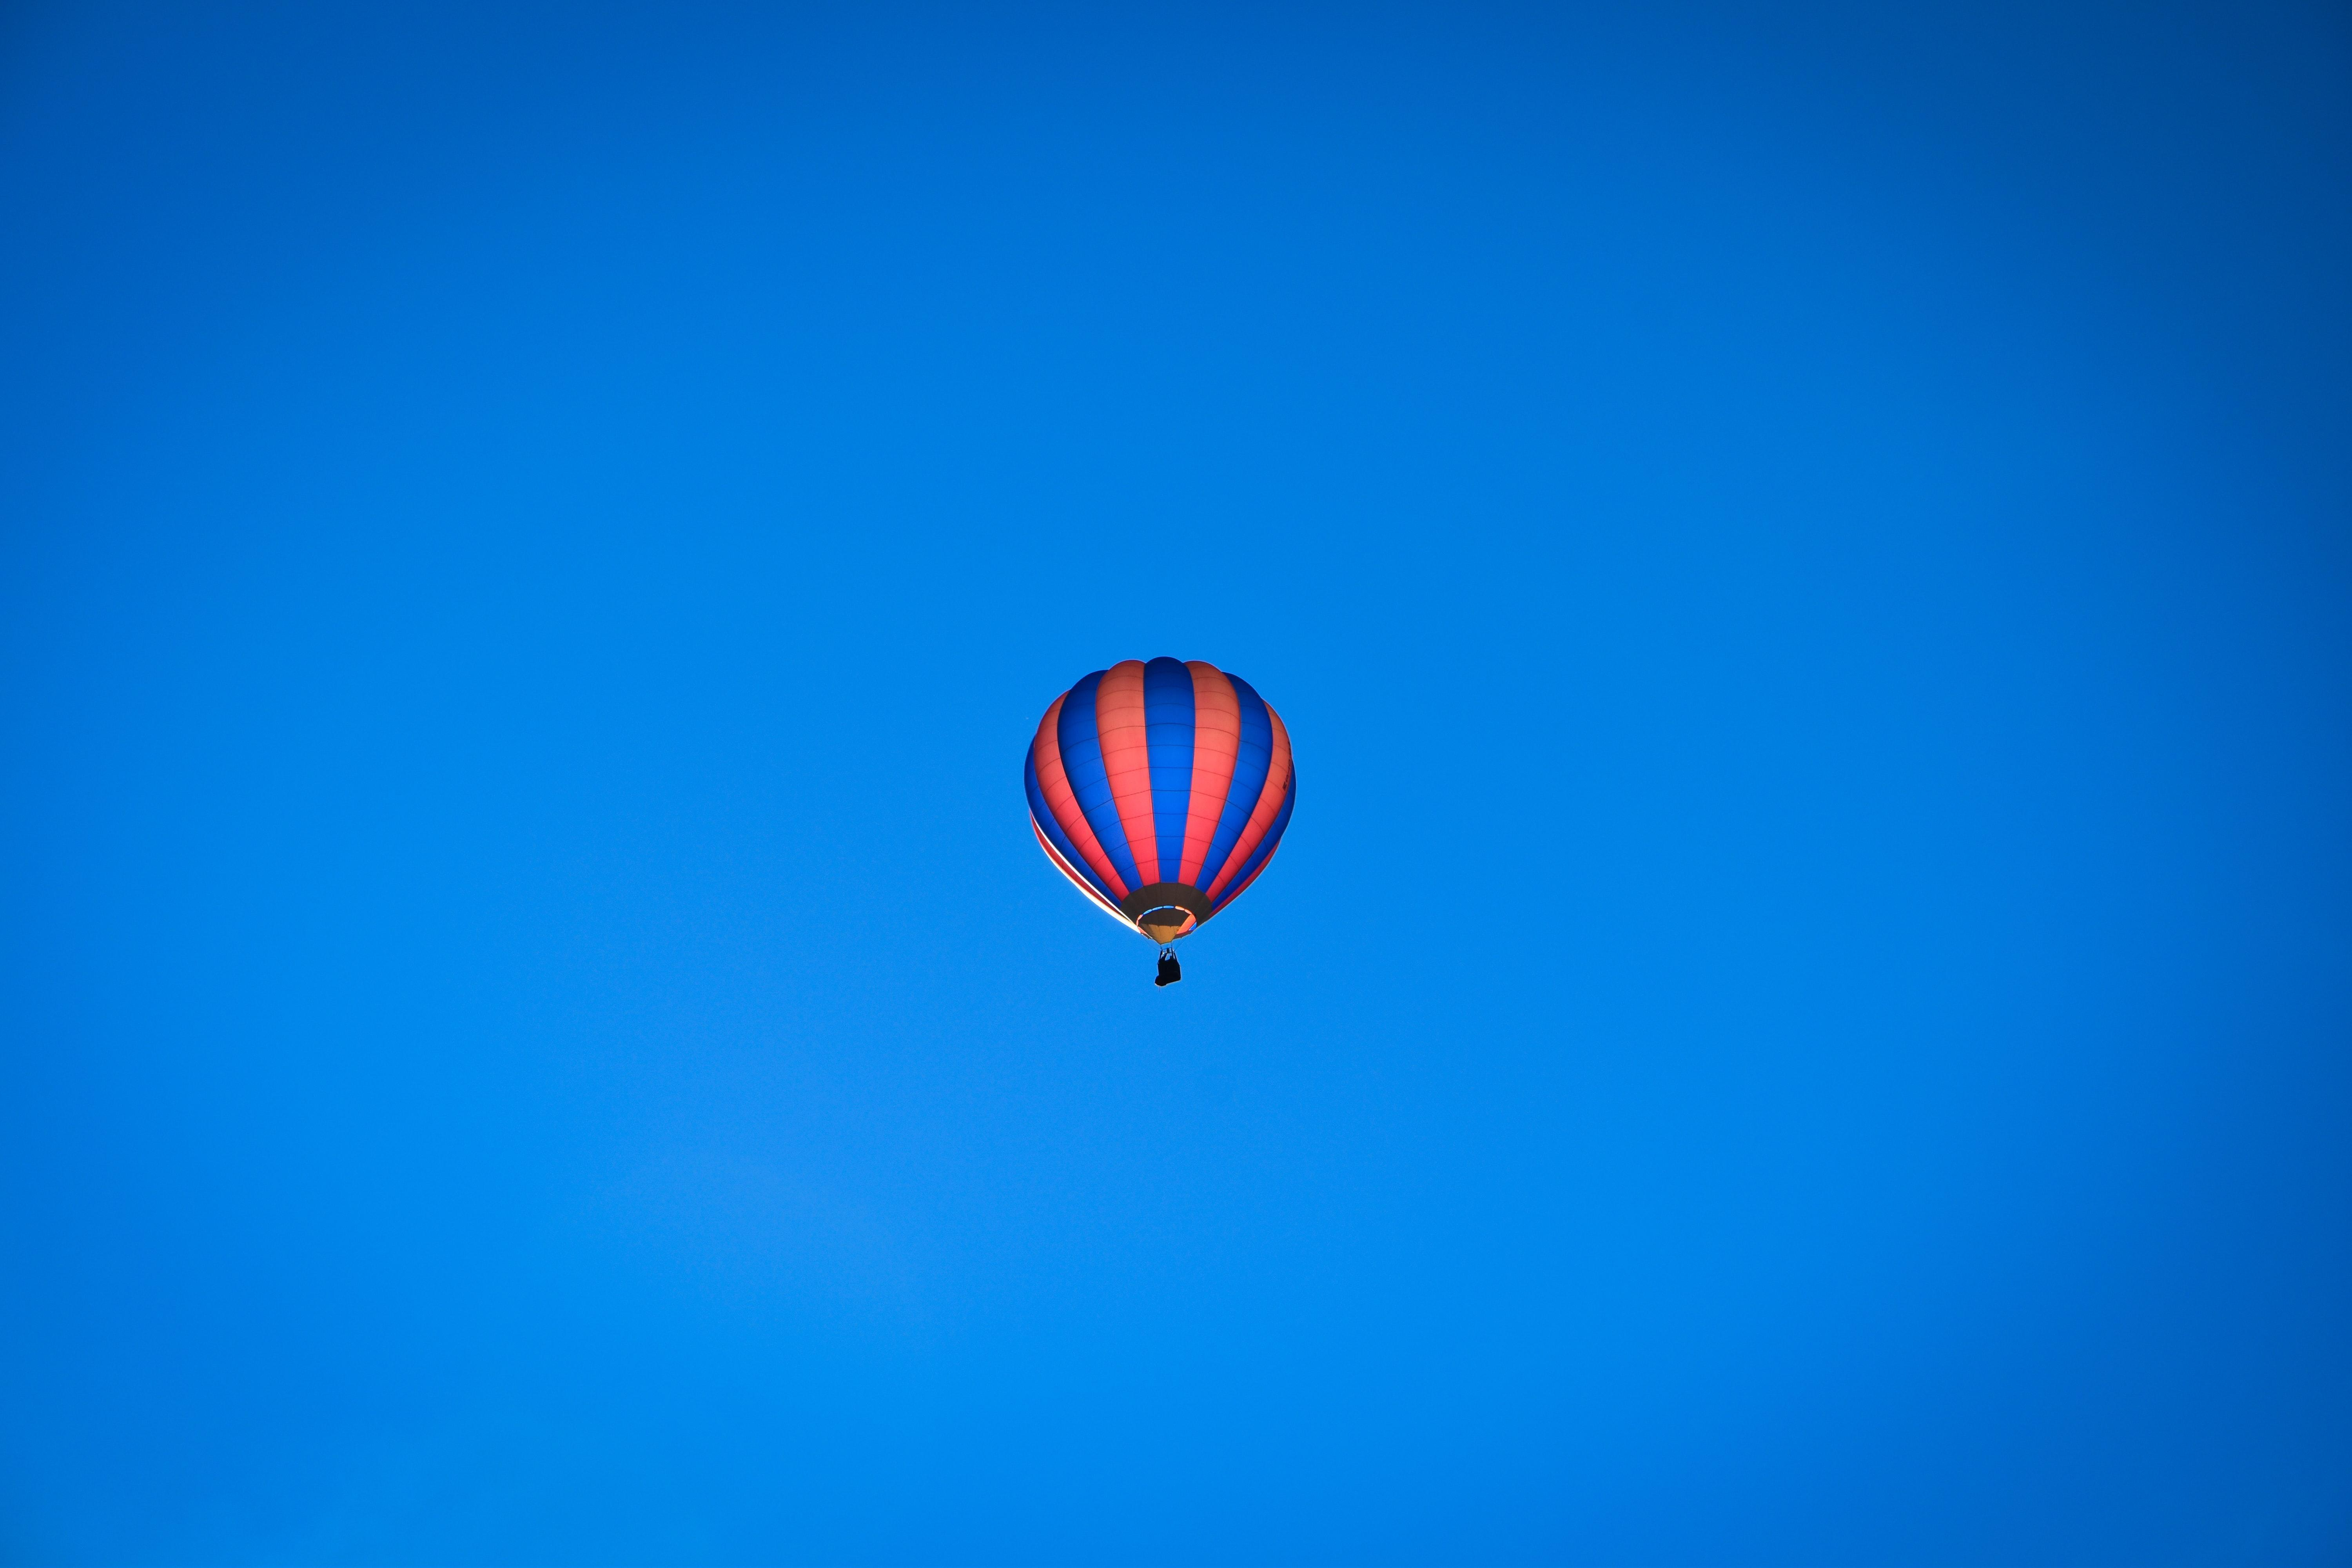hot air ballon: (1024, 656, 1297, 989)
